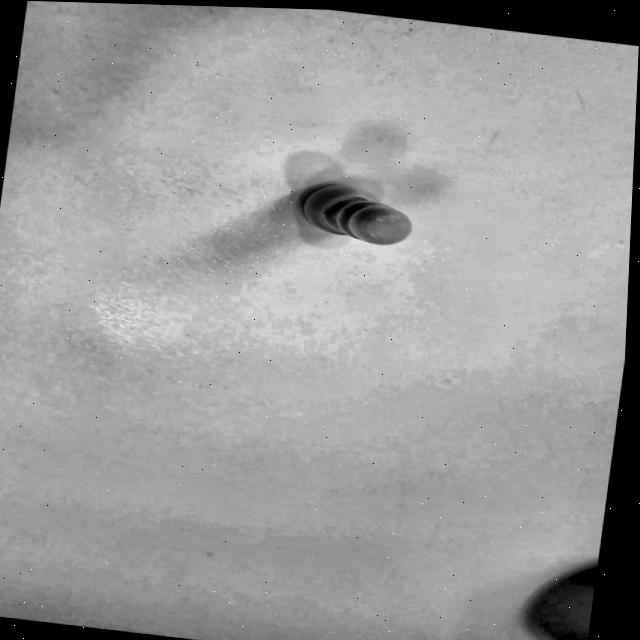white-pawn: (285, 167, 430, 251)
